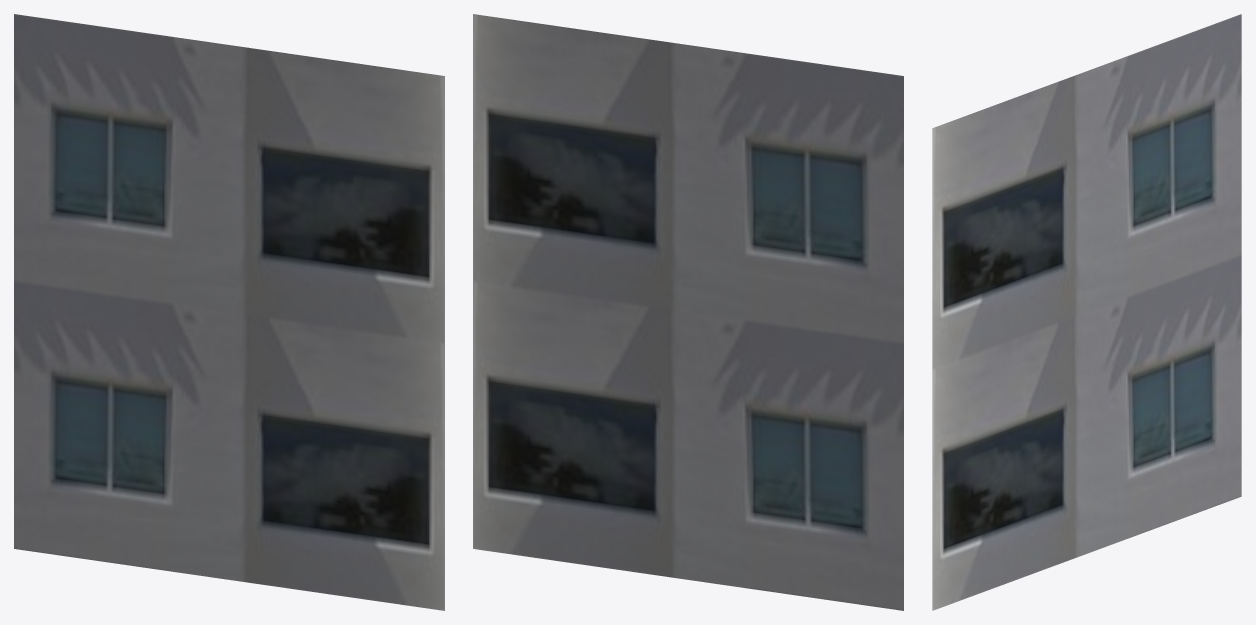
File: ResTex__1977.fbx
The picture shows the model from 3 angles, left to right: view 1: azimuth 30°, elevation 25°; view 2: azimuth 210°, elevation 25°; view 3: azimuth 270°, elevation 25°; orthographic projection. The views are drawn at different scales.
Parts seen in each view (by area): view 1: CityEngineMaterial_10_m; view 2: CityEngineMaterial_10_m; view 3: CityEngineMaterial_10_m.
Part boxes in pixels (box(x1,y1,x2,y2)): CityEngineMaterial_10_m: box(14, 14, 444, 610); CityEngineMaterial_10_m: box(473, 14, 903, 610); CityEngineMaterial_10_m: box(932, 14, 1241, 610).
Size of the model in its own units: 3.05 by 6 by 3.48.
Materials: 1 (1 with a texture image).
